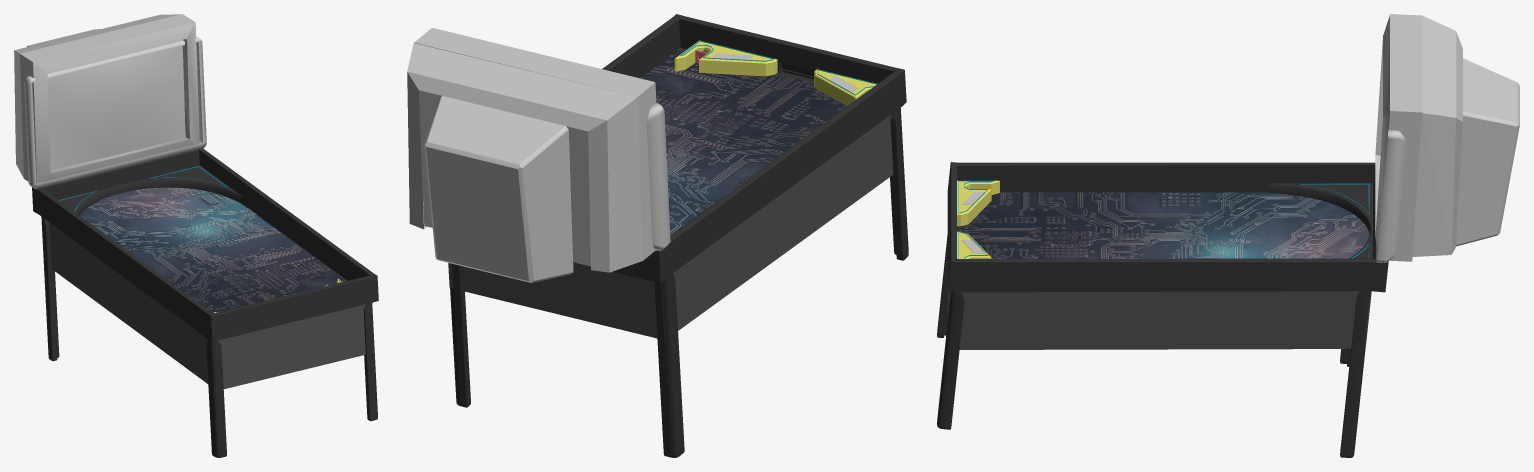
Rendered from pinballMat.fbx_Collection.fbx_PinballExport.fbx.
3 views of the same model, side by side, from view 1: azimuth 30°, elevation 25°; view 2: azimuth 150°, elevation 25°; view 3: azimuth 270°, elevation 25° (orthographic). The views are drawn at different scales.
Parts seen in each view (by area): view 1: monitor.003, Pinball_Board.002, Pinball_Body.002, Pinball_Side_L.004, Legs.002, Pinball_Side_B.002, Pinball_Side_R.002, monitor_mesh.001, Pinball_Object_T.002, Pinball_T_Side.002; view 2: monitor.003, Pinball_Body.002, Pinball_Board.002, Pinball_Side_L.004, Legs.002, Pinball_Side_B.002, Pinball_Object_BHall_L.008, monitor_mesh.001, Pinball_Side_R.002, Pinball_T_Side.002; view 3: monitor.003, Pinball_Board.002, Pinball_Body.002, Pinball_Side_R.002, Pinball_Side_L.004, Legs.002, Pinball_Object_T.002, monitor_mesh.001, Pinball_Object_BHall_L.008, Pinball_Side_B.002.
Boxes of the visible parts, left/top/right/bottom form: monitor.003: left=14, top=14, right=199, bottom=183; Pinball_Board.002: left=80, top=187, right=372, bottom=340; Pinball_Body.002: left=49, top=222, right=365, bottom=389; Pinball_Side_L.004: left=32, top=187, right=216, bottom=341; Legs.002: left=41, top=216, right=377, bottom=457; Pinball_Side_B.002: left=214, top=275, right=373, bottom=340; Pinball_Side_R.002: left=199, top=148, right=378, bottom=301; monitor_mesh.001: left=24, top=37, right=206, bottom=189; Pinball_Object_T.002: left=59, top=165, right=244, bottom=215; Pinball_T_Side.002: left=42, top=149, right=199, bottom=199; monitor.003: left=407, top=28, right=656, bottom=282; Pinball_Body.002: left=448, top=115, right=893, bottom=339; Pinball_Board.002: left=639, top=48, right=846, bottom=234; Pinball_Side_L.004: left=652, top=68, right=906, bottom=283; Legs.002: left=450, top=108, right=908, bottom=457; Pinball_Side_B.002: left=679, top=15, right=897, bottom=83; Pinball_Object_BHall_L.008: left=674, top=40, right=877, bottom=105; monitor_mesh.001: left=646, top=103, right=670, bottom=250; Pinball_Side_R.002: left=602, top=14, right=682, bottom=77; Pinball_T_Side.002: left=613, top=253, right=653, bottom=281; monitor.003: left=1375, top=14, right=1519, bottom=261; Pinball_Board.002: left=957, top=192, right=1369, bottom=258; Pinball_Body.002: left=947, top=259, right=1371, bottom=349; Pinball_Side_R.002: left=947, top=258, right=1388, bottom=292; Pinball_Side_L.004: left=947, top=162, right=1375, bottom=192; Legs.002: left=937, top=235, right=1370, bottom=457; Pinball_Object_T.002: left=1266, top=183, right=1372, bottom=258; monitor_mesh.001: left=1376, top=130, right=1405, bottom=262; Pinball_Object_BHall_L.008: left=957, top=180, right=999, bottom=258; Pinball_Side_B.002: left=947, top=164, right=956, bottom=285.
Bounding box in the file's own units: 731 × 1146 × 1737.
